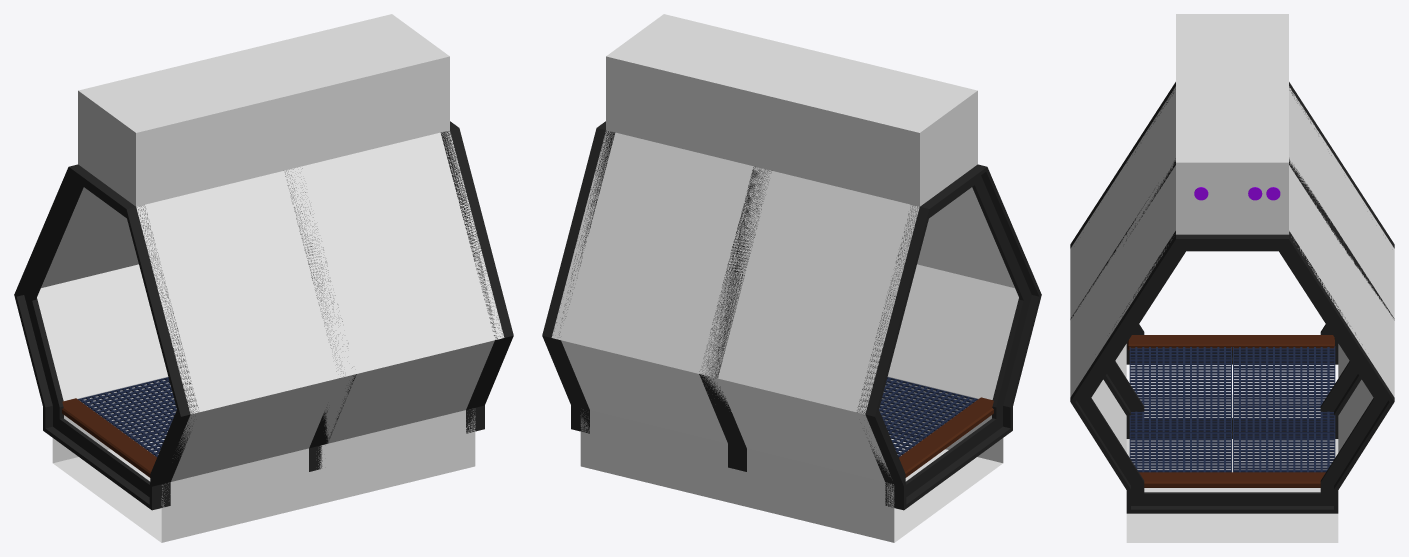
The model's file is corridor.obj.
3 renders of one model, left to right at view 1: azimuth 30°, elevation 25°; view 2: azimuth 150°, elevation 25°; view 3: azimuth 270°, elevation 25°, orthographic. The views are drawn at different scales.
Parts seen in each view (by area): view 1: corridor, Shape012, Shape013, grate010, floor_plate00, Shape014; view 2: corridor, Shape012, Shape014, Shape013, grate009, floor_plate00; view 3: corridor, Shape013, Shape014, grate010, grate009, grate008, grate007, grate006, grate005, floor_plate01, floor_plate00, Shape012.
Boxes of the visible parts, box(x1,y1,x2,y2) form: corridor: box(37, 14, 504, 542); Shape012: box(14, 164, 198, 510); Shape013: box(440, 121, 513, 433); grate010: box(78, 378, 176, 437); floor_plate00: box(62, 398, 156, 477); Shape014: box(285, 168, 356, 471); corridor: box(551, 14, 1018, 542); Shape012: box(857, 164, 1041, 510); Shape014: box(699, 166, 771, 471); Shape013: box(542, 121, 615, 433); grate009: box(879, 378, 977, 437); floor_plate00: box(899, 397, 993, 477); corridor: box(1070, 14, 1394, 542); Shape013: box(1070, 231, 1394, 513); Shape014: box(1070, 158, 1394, 438); grate010: box(1233, 346, 1335, 389); grate009: box(1129, 347, 1231, 389); grate008: box(1233, 389, 1335, 432); grate007: box(1129, 389, 1231, 432); grate006: box(1233, 433, 1335, 472); grate005: box(1129, 433, 1231, 472); floor_plate01: box(1139, 472, 1325, 487); floor_plate00: box(1127, 335, 1334, 350); Shape012: box(1070, 82, 1394, 364).
Bounding box in the file's own units: 5.3 × 5.96 × 4.6.
